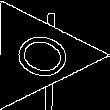O_SE: (0, 23, 75, 87)
